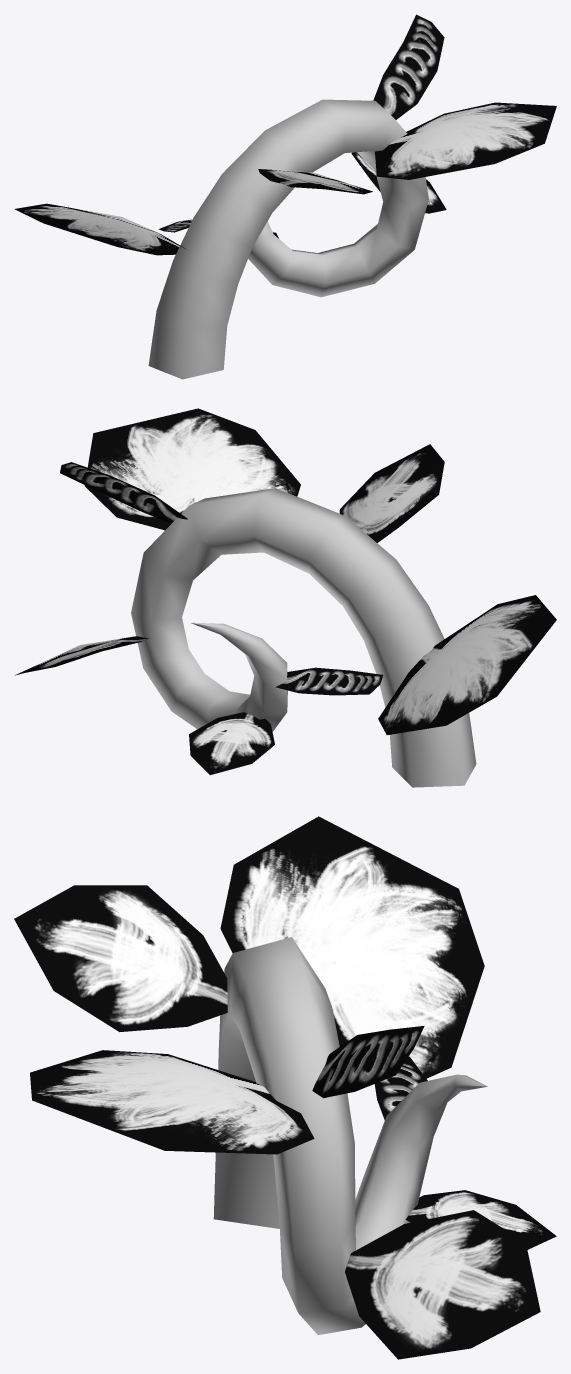
File: PumpkinPlant.fbx
3 views of the same model, one above another, from view 1: azimuth 30°, elevation 25°; view 2: azimuth 150°, elevation 25°; view 3: azimuth 270°, elevation 25° (orthographic). The views are drawn at different scales.
Visible parts, largest first — view 1: PumpkinStem, PimpkinLeaves; view 2: PimpkinLeaves, PumpkinStem; view 3: PimpkinLeaves, PumpkinStem.
Part boxes in pixels (x1=…): PumpkinStem: x1=148, y1=99, x2=428, y2=379; PimpkinLeaves: x1=14, y1=14, x2=556, y2=255; PimpkinLeaves: x1=15, y1=408, x2=556, y2=775; PumpkinStem: x1=131, y1=488, x2=476, y2=787; PimpkinLeaves: x1=14, y1=816, x2=556, y2=1359; PumpkinStem: x1=213, y1=937, x2=487, y2=1335.
Bounding box in the file's own units: 1.63 × 0.8257 × 1.02.
